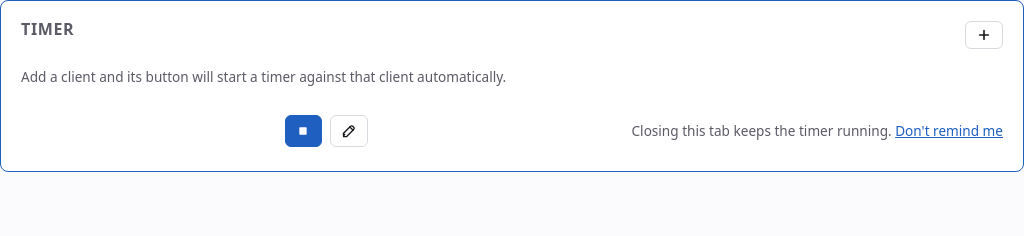
Test: what the stop notice says (item 64) › still says uncategorised when the timer really had no project
No client owns this timer, so the Stop button is on the orphan row.
Click the button named "Stop the timer".
click(304, 131)  # box [285,115,322,147]
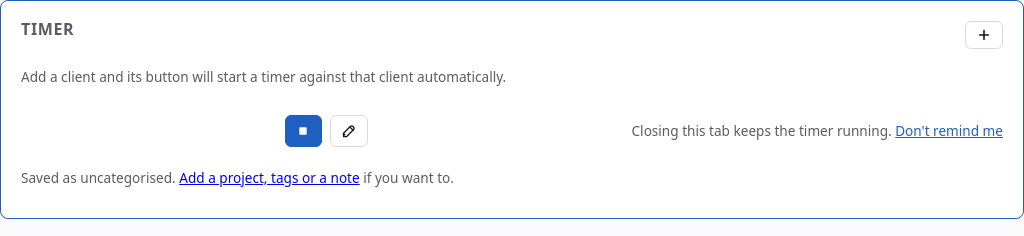
Now the element with test id "just-stopped" shows "uncategorised", box [21,168,176,187]
